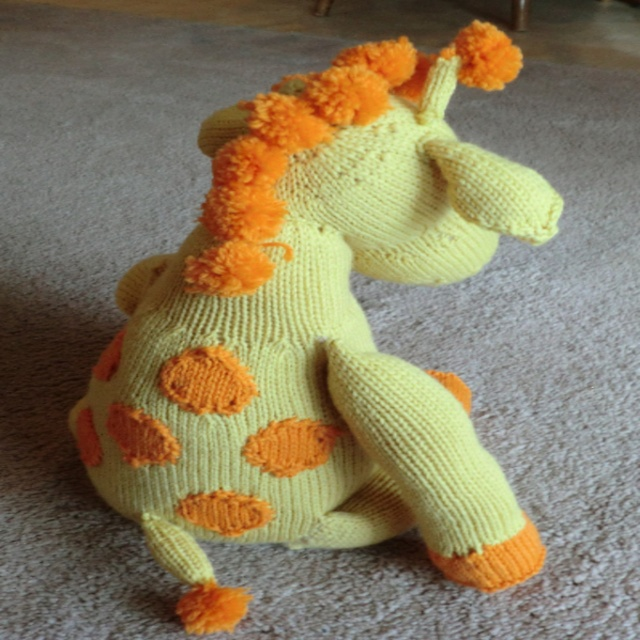Giraffe: (71, 21, 549, 633)
